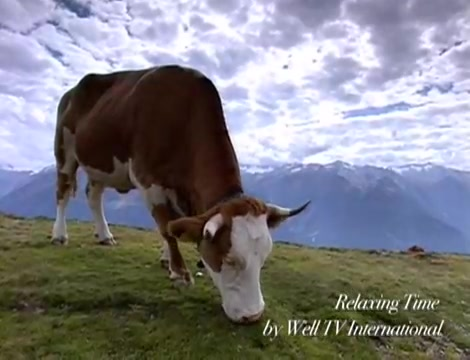cow: (55, 65, 314, 326)
